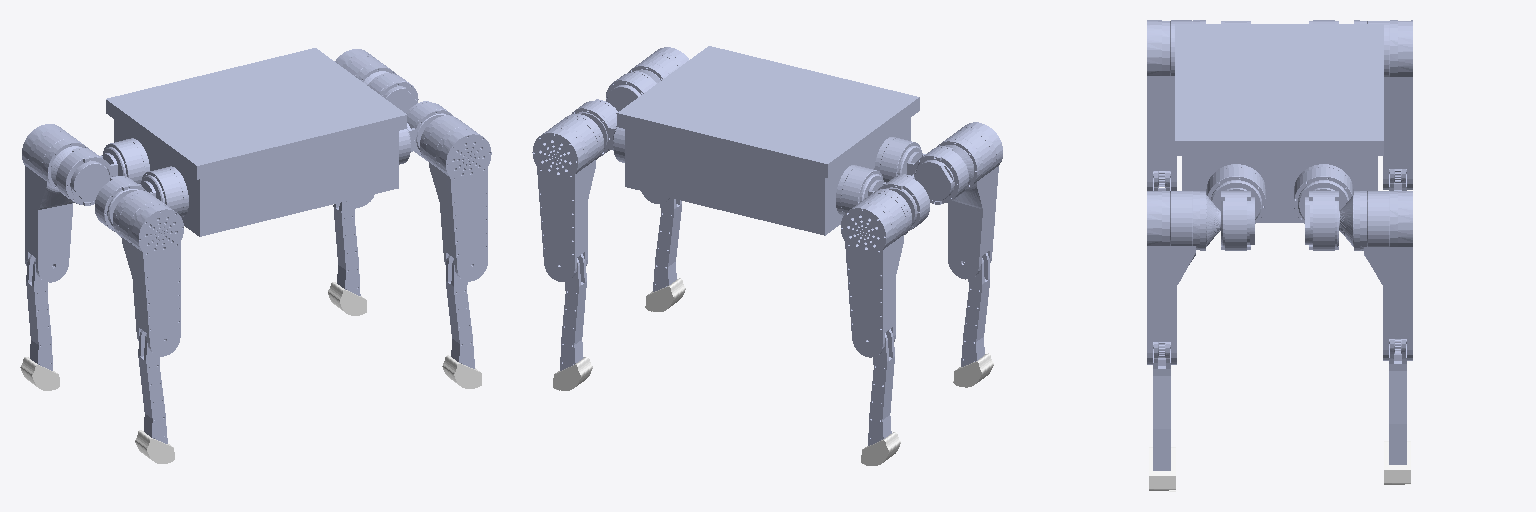
robot.urdf — scout_robot_description:
<?xml version="1.0" encoding="utf-8"?>
<!-- This URDF was automatically created by SolidWorks to URDF Exporter! Originally created by Stephen Brawner ([email redacted]) 
     Commit Version: 1.6.0-4-g7f85cfe  Build Version: 1.6.7995.38578
     For more information, please see http://wiki.ros.org/sw_urdf_exporter -->
<robot
  name="scout_robot_description">
  <link
    name="base_link">
    <inertial>
      <origin
        xyz="-0.0210580748414876 0.00207440239951867 0.0661360300196389"
        rpy="0 0 0" />
      <mass
        value="6.41366184598262" />
      <inertia
        ixx="0.0682915404686814"
        ixy="1.65600536965895E-17"
        ixz="1.18462098502104E-18"
        iyy="0.104448333749456"
        iyz="1.15253850503895E-08"
        izz="0.156283019646088" />
    </inertial>
    <visual>
      <origin
        xyz="0 0 0"
        rpy="0 0 0" />
      <geometry>
        <mesh
          filename="package://scout_robot_description/meshes/base_link.STL" />
      </geometry>
      <material
        name="">
        <color
          rgba="0.792156862745098 0.819607843137255 0.933333333333333 1" />
      </material>
    </visual>
    <collision>
      <origin
        xyz="0 0 0"
        rpy="0 0 0" />
      <geometry>
        <mesh
          filename="package://scout_robot_description/meshes/base_link.STL" />
      </geometry>
    </collision>
  </link>
  <link
    name="front_left_hip_link">
    <inertial>
      <origin
        xyz="-0.0136715815108775 -0.00161098936779762 -5.53579979546935E-05"
        rpy="0 0 0" />
      <mass
        value="0.299935158686972" />
      <inertia
        ixx="0.000193007346965068"
        ixy="-4.83145045223389E-07"
        ixz="4.12208118983272E-07"
        iyy="0.000268683962581779"
        iyz="-3.64075905619963E-07"
        izz="0.00018657323874084" />
    </inertial>
    <visual>
      <origin
        xyz="0 0 0"
        rpy="0 0 0" />
      <geometry>
        <mesh
          filename="package://scout_robot_description/meshes/front_left_hip_link.STL" />
      </geometry>
      <material
        name="">
        <color
          rgba="0.792156862745098 0.819607843137255 0.933333333333333 1" />
      </material>
    </visual>
    <collision>
      <origin
        xyz="0 0 0"
        rpy="0 0 0" />
      <geometry>
        <mesh
          filename="package://scout_robot_description/meshes/front_left_hip_link.STL" />
      </geometry>
    </collision>
  </link>
  <joint
    name="front_left_hip_joint"
    type="revolute">
    <origin
      xyz="0.28882 0.067155 0.0515"
      rpy="0 0 0" />
    <parent
      link="base_link" />
    <child
      link="front_left_hip_link" />
    <axis
      xyz="1 0 0" />
    <limit
      lower="-1.04"
      upper="1.04"
      effort="4"
      velocity="4" />
  </joint>
  <link
    name="front_left_upper_leg_link">
    <inertial>
      <origin
        xyz="-0.00181009683608957 -0.0204754274677028 -0.0466123528877474"
        rpy="0 0 0" />
      <mass
        value="0.790558612356665" />
      <inertia
        ixx="0.00222924539321048"
        ixy="2.6609052113765E-06"
        ixz="-6.80725337803206E-05"
        iyy="0.00252347799404171"
        iyz="6.62069662557934E-05"
        izz="0.000480463410180852" />
    </inertial>
    <visual>
      <origin
        xyz="0 0 0"
        rpy="0 0 0" />
      <geometry>
        <mesh
          filename="package://scout_robot_description/meshes/front_left_upper_leg_link.STL" />
      </geometry>
      <material
        name="">
        <color
          rgba="0.792156862745098 0.819607843137255 0.933333333333333 1" />
      </material>
    </visual>
    <collision>
      <origin
        xyz="0 0 0"
        rpy="0 0 0" />
      <geometry>
        <mesh
          filename="package://scout_robot_description/meshes/front_left_upper_leg_link.STL" />
      </geometry>
    </collision>
  </link>
  <joint
    name="front_left_upper_leg_joint"
    type="revolute">
    <origin
      xyz="-0.01 0.11015 0"
      rpy="0 0 0" />
    <parent
      link="front_left_hip_link" />
    <child
      link="front_left_upper_leg_link" />
    <axis
      xyz="0 1 0" />
    <limit
      lower="-1.57"
      upper="2.59"
      effort="4"
      velocity="4" />
  </joint>
  <link
    name="front_left_lower_leg_link">
    <inertial>
      <origin
        xyz="-0.0121395770591203 1.44754320910156E-05 -0.0971781035069053"
        rpy="0 0 0" />
      <mass
        value="0.136777572247688" />
      <inertia
        ixx="0.000580208345943688"
        ixy="8.95757271481114E-16"
        ixz="8.29184319492175E-06"
        iyy="0.000592884110471787"
        iyz="5.10359671002319E-15"
        izz="1.60106073098899E-05" />
    </inertial>
    <visual>
      <origin
        xyz="0 0 0"
        rpy="0 0 0" />
      <geometry>
        <mesh
          filename="package://scout_robot_description/meshes/front_left_lower_leg_link.STL" />
      </geometry>
      <material
        name="">
        <color
          rgba="0.792156862745098 0.819607843137255 0.933333333333333 1" />
      </material>
    </visual>
    <collision>
      <origin
        xyz="0 0 0"
        rpy="0 0 0" />
      <geometry>
        <mesh
          filename="package://scout_robot_description/meshes/front_left_lower_leg_link.STL" />
      </geometry>
    </collision>
  </link>
  <joint
    name="front_left_lower_leg_joint"
    type="revolute">
    <origin
      xyz="-0.0077812 0 -0.19985"
      rpy="0 0 0" />
    <parent
      link="front_left_upper_leg_link" />
    <child
      link="front_left_lower_leg_link" />
    <axis
      xyz="0 1 0" />
    <limit
      lower="-2.9"
      upper="1.57"
      effort="4"
      velocity="4" />
  </joint>
  <link
    name="front_left_foot_link">
    <inertial>
      <origin
        xyz="-0.00306014620163719 -9.22305698677905E-06 -0.00126595869841112"
        rpy="0 0 0" />
      <mass
        value="0.0554718524709599" />
      <inertia
        ixx="1.77946603925049E-05"
        ixy="-3.52982815343748E-08"
        ixz="6.02886626053331E-06"
        iyy="2.13122742969903E-05"
        iyz="6.55398837654116E-08"
        izz="2.06513838755981E-05" />
    </inertial>
    <visual>
      <origin
        xyz="0 0 0"
        rpy="0 0 0" />
      <geometry>
        <mesh
          filename="package://scout_robot_description/meshes/front_left_foot_link.STL" />
      </geometry>
      <material
        name="">
        <color
          rgba="1 1 1 1" />
      </material>
    </visual>
    <collision>
      <origin
        xyz="0 0 0"
        rpy="0 0 0" />
      <geometry>
        <mesh
          filename="package://scout_robot_description/meshes/front_left_foot_link.STL" />
      </geometry>
    </collision>
  </link>
  <joint
    name="front_left_foot_joint"
    type="fixed">
    <origin
      xyz="-0.011199171847237 0 -0.209761807091393"
      rpy="0 0 0" />
    <parent
      link="front_left_lower_leg_link" />
    <child
      link="front_left_foot_link" />
    <axis
      xyz="0 0 0" />
  </joint>
  <link
    name="rear_left_hip_link">
    <inertial>
      <origin
        xyz="0.0136715815108775 -0.00161098936779754 5.53579979545877E-05"
        rpy="0 0 0" />
      <mass
        value="0.299935158686972" />
      <inertia
        ixx="0.000193007346965068"
        ixy="4.83145045223459E-07"
        ixz="4.12208118983296E-07"
        iyy="0.000268683962581779"
        iyz="3.64075905620102E-07"
        izz="0.00018657323874084" />
    </inertial>
    <visual>
      <origin
        xyz="0 0 0"
        rpy="0 0 0" />
      <geometry>
        <mesh
          filename="package://scout_robot_description/meshes/rear_left_hip_link.STL" />
      </geometry>
      <material
        name="">
        <color
          rgba="0.792156862745098 0.819607843137255 0.933333333333333 1" />
      </material>
    </visual>
    <collision>
      <origin
        xyz="0 0 0"
        rpy="0 0 0" />
      <geometry>
        <mesh
          filename="package://scout_robot_description/meshes/rear_left_hip_link.STL" />
      </geometry>
    </collision>
  </link>
  <joint
    name="rear_left_hip_joint"
    type="revolute">
    <origin
      xyz="-0.330780215437656 0.0671546202239636 0.0514999999999987"
      rpy="0 0 0" />
    <parent
      link="base_link" />
    <child
      link="rear_left_hip_link" />
    <axis
      xyz="1 0 0" />
    <limit
      lower="-1.04"
      upper="1.04"
      effort="4"
      velocity="4" />
  </joint>
  <link
    name="rear_left_upper_leg_link">
    <inertial>
      <origin
        xyz="-0.00181009683608946 -0.0204754274677029 -0.0466123528877473"
        rpy="0 0 0" />
      <mass
        value="0.790558612356665" />
      <inertia
        ixx="0.00222924539321048"
        ixy="2.66090521137638E-06"
        ixz="-6.80725337803169E-05"
        iyy="0.0025234779940417"
        iyz="6.62069662557913E-05"
        izz="0.000480463410180852" />
    </inertial>
    <visual>
      <origin
        xyz="0 0 0"
        rpy="0 0 0" />
      <geometry>
        <mesh
          filename="package://scout_robot_description/meshes/rear_left_upper_leg_link.STL" />
      </geometry>
      <material
        name="">
        <color
          rgba="0.792156862745098 0.819607843137255 0.933333333333333 1" />
      </material>
    </visual>
    <collision>
      <origin
        xyz="0 0 0"
        rpy="0 0 0" />
      <geometry>
        <mesh
          filename="package://scout_robot_description/meshes/rear_left_upper_leg_link.STL" />
      </geometry>
    </collision>
  </link>
  <joint
    name="rear_left_upper_leg_joint"
    type="revolute">
    <origin
      xyz="0.01 0.11015 0"
      rpy="0 0 0" />
    <parent
      link="rear_left_hip_link" />
    <child
      link="rear_left_upper_leg_link" />
    <axis
      xyz="0 1 0" />
    <limit
      lower="-1.57"
      upper="2.59"
      effort="4"
      velocity="4" />
  </joint>
  <link
    name="rear_left_lower_leg_link">
    <inertial>
      <origin
        xyz="-0.0121395770591199 1.44754320908769E-05 -0.0971781035069055"
        rpy="0 0 0" />
      <mass
        value="0.136777572247688" />
      <inertia
        ixx="0.000580208345943687"
        ixy="8.95756966801722E-16"
        ixz="8.29184319492286E-06"
        iyy="0.000592884110471786"
        iyz="5.10305552360493E-15"
        izz="1.60106073098899E-05" />
    </inertial>
    <visual>
      <origin
        xyz="0 0 0"
        rpy="0 0 0" />
      <geometry>
        <mesh
          filename="package://scout_robot_description/meshes/rear_left_lower_leg_link.STL" />
      </geometry>
      <material
        name="">
        <color
          rgba="0.792156862745098 0.819607843137255 0.933333333333333 1" />
      </material>
    </visual>
    <collision>
      <origin
        xyz="0 0 0"
        rpy="0 0 0" />
      <geometry>
        <mesh
          filename="package://scout_robot_description/meshes/rear_left_lower_leg_link.STL" />
      </geometry>
    </collision>
  </link>
  <joint
    name="rear_left_lower_leg_joint"
    type="revolute">
    <origin
      xyz="-0.0077812 0 -0.19985"
      rpy="0 0 0" />
    <parent
      link="rear_left_upper_leg_link" />
    <child
      link="rear_left_lower_leg_link" />
    <axis
      xyz="0 1 0" />
    <limit
      lower="-2.9"
      upper="1.57"
      effort="4"
      velocity="4" />
  </joint>
  <link
    name="rear_left_foot_link">
    <inertial>
      <origin
        xyz="-0.00306014620163331 -9.2230569867513E-06 -0.00126595869841384"
        rpy="0 0 0" />
      <mass
        value="0.0554718524709602" />
      <inertia
        ixx="1.7794660392505E-05"
        ixy="-3.52982815343514E-08"
        ixz="6.02886626053341E-06"
        iyy="2.13122742969906E-05"
        iyz="6.5539883765423E-08"
        izz="2.06513838755982E-05" />
    </inertial>
    <visual>
      <origin
        xyz="0 0 0"
        rpy="0 0 0" />
      <geometry>
        <mesh
          filename="package://scout_robot_description/meshes/rear_left_foot_link.STL" />
      </geometry>
      <material
        name="">
        <color
          rgba="1 1 1 1" />
      </material>
    </visual>
    <collision>
      <origin
        xyz="0 0 0"
        rpy="0 0 0" />
      <geometry>
        <mesh
          filename="package://scout_robot_description/meshes/rear_left_foot_link.STL" />
      </geometry>
    </collision>
  </link>
  <joint
    name="rear_left_foot_joint"
    type="fixed">
    <origin
      xyz="-0.0111991718472406 0 -0.20976180709139"
      rpy="0 0 0" />
    <parent
      link="rear_left_lower_leg_link" />
    <child
      link="rear_left_foot_link" />
    <axis
      xyz="0 0 0" />
  </joint>
  <link
    name="front_right_hip_link">
    <inertial>
      <origin
        xyz="0.0525807769097344 0.00161098936779754 5.53579979545643E-05"
        rpy="0 0 0" />
      <mass
        value="0.299935158686972" />
      <inertia
        ixx="0.000193007346965068"
        ixy="4.83145045223497E-07"
        ixz="-4.12208118983281E-07"
        iyy="0.000268683962581779"
        iyz="-3.64075905620148E-07"
        izz="0.00018657323874084" />
    </inertial>
    <visual>
      <origin
        xyz="0 0 0"
        rpy="0 0 0" />
      <geometry>
        <mesh
          filename="package://scout_robot_description/meshes/front_right_hip_link.STL" />
      </geometry>
      <material
        name="">
        <color
          rgba="0.792156862745098 0.819607843137255 0.933333333333333 1" />
      </material>
    </visual>
    <collision>
      <origin
        xyz="0 0 0"
        rpy="0 0 0" />
      <geometry>
        <mesh
          filename="package://scout_robot_description/meshes/front_right_hip_link.STL" />
      </geometry>
    </collision>
  </link>
  <joint
    name="front_right_hip_joint"
    type="revolute">
    <origin
      xyz="0.22257 -0.062845 0.0515"
      rpy="0 0 0" />
    <parent
      link="base_link" />
    <child
      link="front_right_hip_link" />
    <axis
      xyz="1 0 0" />
    <limit
      lower="-1.04"
      upper="1.04"
      effort="4"
      velocity="4" />
  </joint>
  <link
    name="front_right_upper_leg_link">
    <inertial>
      <origin
        xyz="0.0018100968360894 0.0204754274677027 -0.0466123528877474"
        rpy="0 0 0" />
      <mass
        value="0.790558612356664" />
      <inertia
        ixx="0.00222924539321048"
        ixy="2.66090521137632E-06"
        ixz="6.80725337803169E-05"
        iyy="0.00252347799404171"
        iyz="-6.62069662557909E-05"
        izz="0.000480463410180852" />
    </inertial>
    <visual>
      <origin
        xyz="0 0 0"
        rpy="0 0 0" />
      <geometry>
        <mesh
          filename="package://scout_robot_description/meshes/front_right_upper_leg_link.STL" />
      </geometry>
      <material
        name="">
        <color
          rgba="0.792156862745098 0.819607843137255 0.933333333333333 1" />
      </material>
    </visual>
    <collision>
      <origin
        xyz="0 0 0"
        rpy="0 0 0" />
      <geometry>
        <mesh
          filename="package://scout_robot_description/meshes/front_right_upper_leg_link.STL" />
      </geometry>
    </collision>
  </link>
  <joint
    name="front_right_upper_leg_joint"
    type="revolute">
    <origin
      xyz="0.056252 -0.11015 0"
      rpy="0 0 0" />
    <parent
      link="front_right_hip_link" />
    <child
      link="front_right_upper_leg_link" />
    <axis
      xyz="0 1 0" />
    <limit
      lower="-1.57"
      upper="2.59"
      effort="4"
      velocity="4" />
  </joint>
  <link
    name="front_right_lower_leg_link">
    <inertial>
      <origin
        xyz="-0.00925906439833429 1.44754320910156E-05 -0.0974947325685236"
        rpy="0 0 0" />
      <mass
        value="0.136777572247688" />
      <inertia
        ixx="0.000579224012824204"
        ixy="-1.07232572226566E-15"
        ixz="2.49628855412226E-05"
        iyy="0.000592884110471786"
        iyz="-5.0688803258427E-15"
        izz="1.69949404293728E-05" />
    </inertial>
    <visual>
      <origin
        xyz="0 0 0"
        rpy="0 0 0" />
      <geometry>
        <mesh
          filename="package://scout_robot_description/meshes/front_right_lower_leg_link.STL" />
      </geometry>
      <material
        name="">
        <color
          rgba="0.792156862745098 0.819607843137255 0.933333333333333 1" />
      </material>
    </visual>
    <collision>
      <origin
        xyz="0 0 0"
        rpy="0 0 0" />
      <geometry>
        <mesh
          filename="package://scout_robot_description/meshes/front_right_lower_leg_link.STL" />
      </geometry>
    </collision>
  </link>
  <joint
    name="front_right_lower_leg_joint"
    type="revolute">
    <origin
      xyz="0.0077812 0 -0.19985"
      rpy="0 0 0" />
    <parent
      link="front_right_upper_leg_link" />
    <child
      link="front_right_lower_leg_link" />
    <axis
      xyz="0 1 0" />
    <limit
      lower="-2.9"
      upper="1.57"
      effort="4"
      velocity="4" />
  </joint>
  <link
    name="front_right_foot_link">
    <inertial>
      <origin
        xyz="-0.00302135244341412 -9.22305743639162E-06 -0.00135594439010989"
        rpy="0 0 0" />
      <mass
        value="0.0554718518464109" />
      <inertia
        ixx="1.7440564934931E-05"
        ixy="-3.72233395755872E-08"
        ixz="5.93382413837145E-06"
        iyy="2.13122695220571E-05"
        iyz="6.44672665298965E-08"
        izz="2.1005474458106E-05" />
    </inertial>
    <visual>
      <origin
        xyz="0 0 0"
        rpy="0 0 0" />
      <geometry>
        <mesh
          filename="package://scout_robot_description/meshes/front_right_foot_link.STL" />
      </geometry>
      <material
        name="">
        <color
          rgba="1 1 1 1" />
      </material>
    </visual>
    <collision>
      <origin
        xyz="0 0 0"
        rpy="0 0 0" />
      <geometry>
        <mesh
          filename="package://scout_robot_description/meshes/front_right_foot_link.STL" />
      </geometry>
    </collision>
  </link>
  <joint
    name="front_right_foot_joint"
    type="fixed">
    <origin
      xyz="-0.00498806894979309 0 -0.210001324596927"
      rpy="0 0 0" />
    <parent
      link="front_right_lower_leg_link" />
    <child
      link="front_right_foot_link" />
    <axis
      xyz="0 0 0" />
  </joint>
  <link
    name="rear_right_hip_link">
    <inertial>
      <origin
        xyz="0.0136715815108775 0.00161098936779754 -5.53579979545287E-05"
        rpy="0 0 0" />
      <mass
        value="0.299935158686972" />
      <inertia
        ixx="0.000193007346965068"
        ixy="-4.83145045223568E-07"
        ixz="-4.12208118983317E-07"
        iyy="0.000268683962581779"
        iyz="3.64075905620301E-07"
        izz="0.00018657323874084" />
    </inertial>
    <visual>
      <origin
        xyz="0 0 0"
        rpy="0 0 0" />
      <geometry>
        <mesh
          filename="package://scout_robot_description/meshes/rear_right_hip_link.STL" />
      </geometry>
      <material
        name="">
        <color
          rgba="0.792156862745098 0.819607843137255 0.933333333333333 1" />
      </material>
    </visual>
    <collision>
      <origin
        xyz="0 0 0"
        rpy="0 0 0" />
      <geometry>
        <mesh
          filename="package://scout_robot_description/meshes/rear_right_hip_link.STL" />
      </geometry>
    </collision>
  </link>
  <joint
    name="rear_right_hip_joint"
    type="revolute">
    <origin
      xyz="-0.33078 -0.062845 0.0515"
      rpy="0 0 0" />
    <parent
      link="base_link" />
    <child
      link="rear_right_hip_link" />
    <axis
      xyz="1 0 0" />
    <limit
      lower="-1.04"
      upper="1.04"
      effort="4"
      velocity="4" />
  </joint>
  <link
    name="rear_right_upper_leg_link">
    <inertial>
      <origin
        xyz="0.00181009683608929 0.0204754274677029 -0.0466123528877474"
        rpy="0 0 0" />
      <mass
        value="0.790558612356664" />
      <inertia
        ixx="0.00222924539321048"
        ixy="2.66090521137605E-06"
        ixz="6.80725337803162E-05"
        iyy="0.0025234779940417"
        iyz="-6.62069662557928E-05"
        izz="0.000480463410180852" />
    </inertial>
    <visual>
      <origin
        xyz="0 0 0"
        rpy="0 0 0" />
      <geometry>
        <mesh
          filename="package://scout_robot_description/meshes/rear_right_upper_leg_link.STL" />
      </geometry>
      <material
        name="">
        <color
          rgba="0.792156862745098 0.819607843137255 0.933333333333333 1" />
      </material>
    </visual>
    <collision>
      <origin
        xyz="0 0 0"
        rpy="0 0 0" />
      <geometry>
        <mesh
          filename="package://scout_robot_description/meshes/rear_right_upper_leg_link.STL" />
      </geometry>
    </collision>
  </link>
  <joint
    name="rear_right_upper_leg_joint"
    type="revolute">
    <origin
      xyz="0.01 -0.11015 0"
      rpy="0 0 0" />
    <parent
      link="rear_right_hip_link" />
    <child
      link="rear_right_upper_leg_link" />
    <axis
      xyz="0 1 0" />
    <limit
      lower="-1.57"
      upper="2.59"
      effort="4"
      velocity="4" />
  </joint>
  <link
    name="rear_right_lower_leg_link">
    <inertial>
      <origin
        xyz="-0.00925906439833418 1.44754320910156E-05 -0.0974947325685236"
        rpy="0 0 0" />
      <mass
        value="0.136777572247688" />
      <inertia
        ixx="0.000579224012824205"
        ixy="-1.07231999040118E-15"
        ixz="2.49628855412226E-05"
        iyy="0.000592884110471787"
        iyz="-5.06942430091936E-15"
        izz="1.69949404293729E-05" />
    </inertial>
    <visual>
      <origin
        xyz="0 0 0"
        rpy="0 0 0" />
      <geometry>
        <mesh
          filename="package://scout_robot_description/meshes/rear_right_lower_leg_link.STL" />
      </geometry>
      <material
        name="">
        <color
          rgba="0.792156862745098 0.819607843137255 0.933333333333333 1" />
      </material>
    </visual>
    <collision>
      <origin
        xyz="0 0 0"
        rpy="0 0 0" />
      <geometry>
        <mesh
          filename="package://scout_robot_description/meshes/rear_right_lower_leg_link.STL" />
      </geometry>
    </collision>
  </link>
  <joint
    name="rear_right_lower_leg_link"
    type="revolute">
    <origin
      xyz="0.0077812 0 -0.19985"
      rpy="0 0 0" />
    <parent
      link="rear_right_upper_leg_link" />
    <child
      link="rear_right_lower_leg_link" />
    <axis
      xyz="0 1 0" />
    <limit
      lower="-2.9"
      upper="1.57"
      effort="4"
      velocity="4" />
  </joint>
  <link
    name="rear_right_foot_link">
    <inertial>
      <origin
        xyz="-0.00302135244340956 -9.22305743641938E-06 -0.00135594439011244"
        rpy="0 0 0" />
      <mass
        value="0.0554718518464106" />
      <inertia
        ixx="1.74405649349309E-05"
        ixy="-3.72233395755566E-08"
        ixz="5.93382413837149E-06"
        iyy="2.13122695220572E-05"
        iyz="6.44672665298843E-08"
        izz="2.10054744581059E-05" />
    </inertial>
    <visual>
      <origin
        xyz="0 0 0"
        rpy="0 0 0" />
      <geometry>
        <mesh
          filename="package://scout_robot_description/meshes/rear_right_foot_link.STL" />
      </geometry>
      <material
        name="">
        <color
          rgba="1 1 1 1" />
      </material>
    </visual>
    <collision>
      <origin
        xyz="0 0 0"
        rpy="0 0 0" />
      <geometry>
        <mesh
          filename="package://scout_robot_description/meshes/rear_right_foot_link.STL" />
      </geometry>
    </collision>
  </link>
  <joint
    name="rear_right_foot_joint"
    type="fixed">
    <origin
      xyz="-0.00498806894979753 0 -0.210001324596924"
      rpy="0 0 0" />
    <parent
      link="rear_right_lower_leg_link" />
    <child
      link="rear_right_foot_link" />
    <axis
      xyz="0 0 0" />
  </joint>
</robot>

--- What the picture shows (computed from the rendered views, not written in the file) ---
The picture shows the robot from 3 angles, left to right: view 1: azimuth 30°, elevation 25°; view 2: azimuth 150°, elevation 25°; view 3: azimuth 270°, elevation 25°; orthographic projection.
Model scout_robot_description with 17 links and 16 joints (12 revolute, 4 fixed), rooted at base_link, posed all joints at 0.
Visible links, largest first — view 1: base_link, rear_right_upper_leg_link, front_right_upper_leg_link, rear_left_upper_leg_link, rear_left_hip_link, rear_left_lower_leg_link, rear_right_lower_leg_link, front_right_lower_leg_link, front_left_lower_leg_link, rear_right_hip_link, front_left_upper_leg_link, front_left_hip_link (+5 smaller); view 2: base_link, rear_left_upper_leg_link, front_left_upper_leg_link, rear_right_upper_leg_link, rear_right_hip_link, rear_left_lower_leg_link, front_left_lower_leg_link, rear_right_lower_leg_link, front_right_lower_leg_link, rear_left_hip_link, front_right_upper_leg_link, front_right_hip_link (+5 smaller); view 3: base_link, front_right_upper_leg_link, front_left_upper_leg_link, rear_left_upper_leg_link, rear_right_upper_leg_link, front_right_lower_leg_link, front_left_lower_leg_link, front_left_hip_link, front_right_hip_link, front_right_foot_link, front_left_foot_link.
Link boxes in pixels (left/top/right/bottom): base_link: left=103, top=48, right=410, bottom=236; rear_right_upper_leg_link: left=113, top=190, right=183, bottom=356; front_right_upper_leg_link: left=420, top=115, right=491, bottom=281; rear_left_upper_leg_link: left=22, top=124, right=88, bottom=282; rear_left_hip_link: left=56, top=148, right=117, bottom=205; rear_left_lower_leg_link: left=26, top=255, right=52, bottom=370; rear_right_lower_leg_link: left=138, top=330, right=167, bottom=443; front_right_lower_leg_link: left=446, top=255, right=474, bottom=368; front_left_lower_leg_link: left=333, top=201, right=360, bottom=295; rear_right_hip_link: left=95, top=176, right=155, bottom=231; front_left_upper_leg_link: left=335, top=49, right=396, bottom=207; front_left_hip_link: left=367, top=73, right=418, bottom=112; base_link: left=613, top=46, right=921, bottom=235; rear_left_upper_leg_link: left=841, top=189, right=911, bottom=357; front_left_upper_leg_link: left=532, top=114, right=603, bottom=281; rear_right_upper_leg_link: left=937, top=122, right=1002, bottom=279; rear_right_hip_link: left=907, top=146, right=968, bottom=204; rear_left_lower_leg_link: left=868, top=329, right=894, bottom=445; front_left_lower_leg_link: left=560, top=254, right=586, bottom=370; rear_right_lower_leg_link: left=961, top=253, right=989, bottom=366; front_right_lower_leg_link: left=653, top=198, right=681, bottom=291; rear_left_hip_link: left=868, top=174, right=929, bottom=230; front_right_upper_leg_link: left=628, top=47, right=688, bottom=203; front_right_hip_link: left=606, top=71, right=656, bottom=111; base_link: left=1175, top=24, right=1383, bottom=223; front_right_upper_leg_link: left=1147, top=191, right=1220, bottom=364; front_left_upper_leg_link: left=1339, top=191, right=1412, bottom=360; rear_left_upper_leg_link: left=1354, top=20, right=1412, bottom=189; rear_right_upper_leg_link: left=1147, top=20, right=1205, bottom=190; front_right_lower_leg_link: left=1153, top=342, right=1170, bottom=470; front_left_lower_leg_link: left=1389, top=339, right=1406, bottom=464; front_left_hip_link: left=1305, top=188, right=1338, bottom=250; front_right_hip_link: left=1221, top=188, right=1254, bottom=250; front_right_foot_link: left=1149, top=447, right=1175, bottom=491; front_left_foot_link: left=1384, top=441, right=1410, bottom=484.
Size in the robot's own frame: 0.6922 by 0.3953 by 0.5207 metres.
Meshes: 17 distinct files referenced, 17 mesh visuals loaded (17 binary STL).
